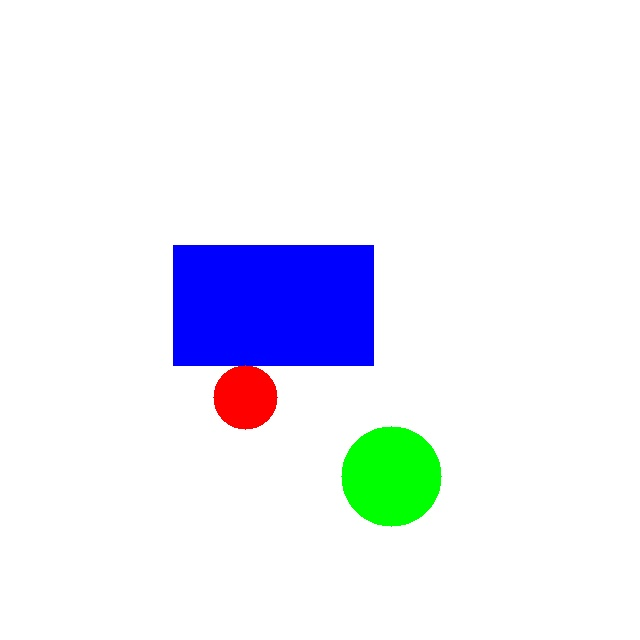cartao: (173, 245, 373, 365)
rosca_externa: (341, 426, 441, 526)
rosca_interna: (213, 365, 277, 429)
